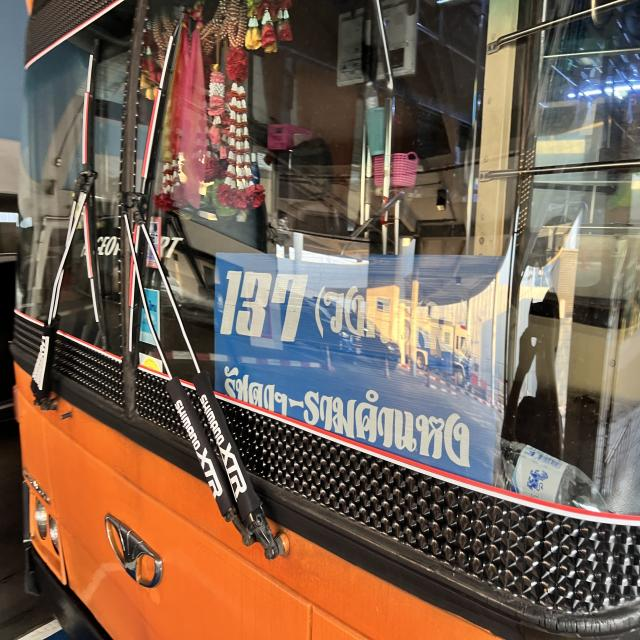BMTA-bus: (0, 0, 640, 640)
Destination-Sign-Normal: (214, 252, 496, 508)
